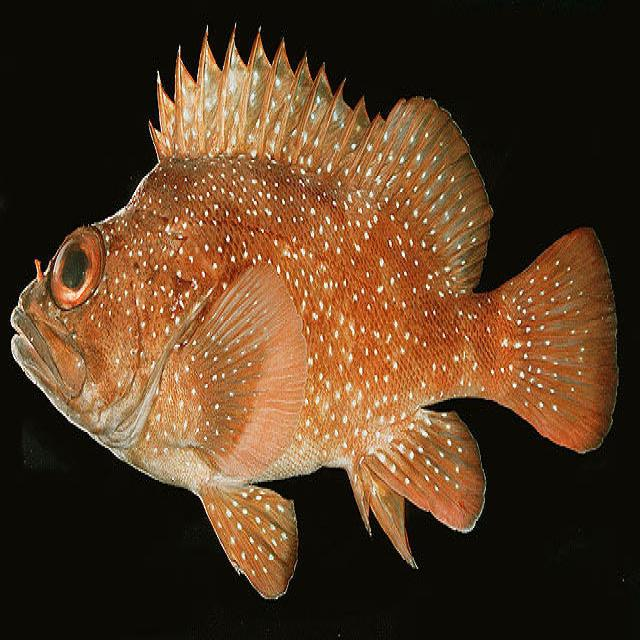ikan: (8, 15, 627, 615)
